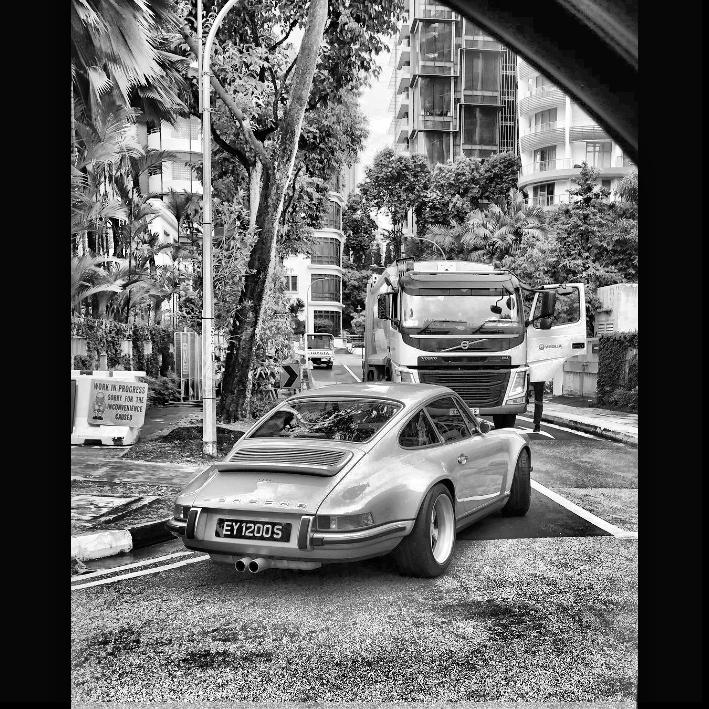License-Plates: (214, 518, 291, 542)
